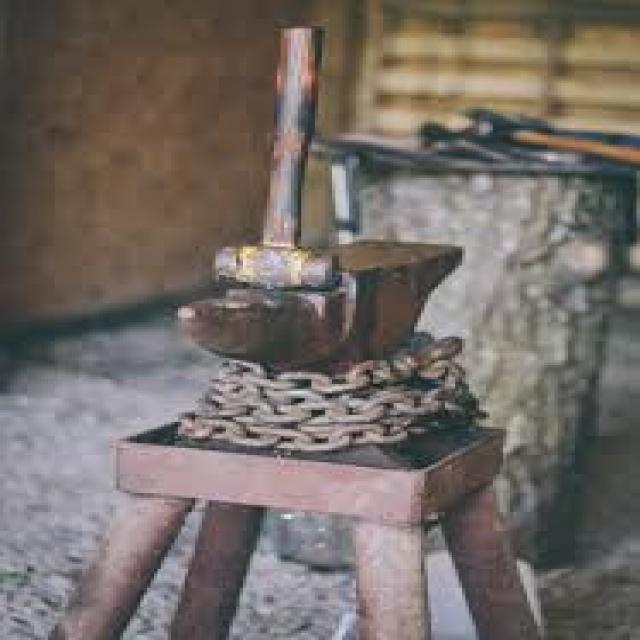hammer: (196, 17, 358, 290)
